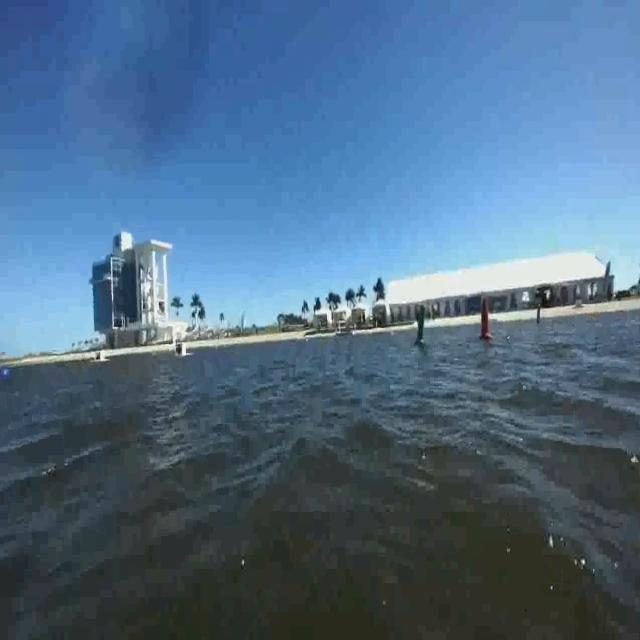blue-buoy: (2, 357, 12, 381)
green-column-buoy: (415, 300, 428, 345)
red-column-buoy: (476, 286, 496, 354)
